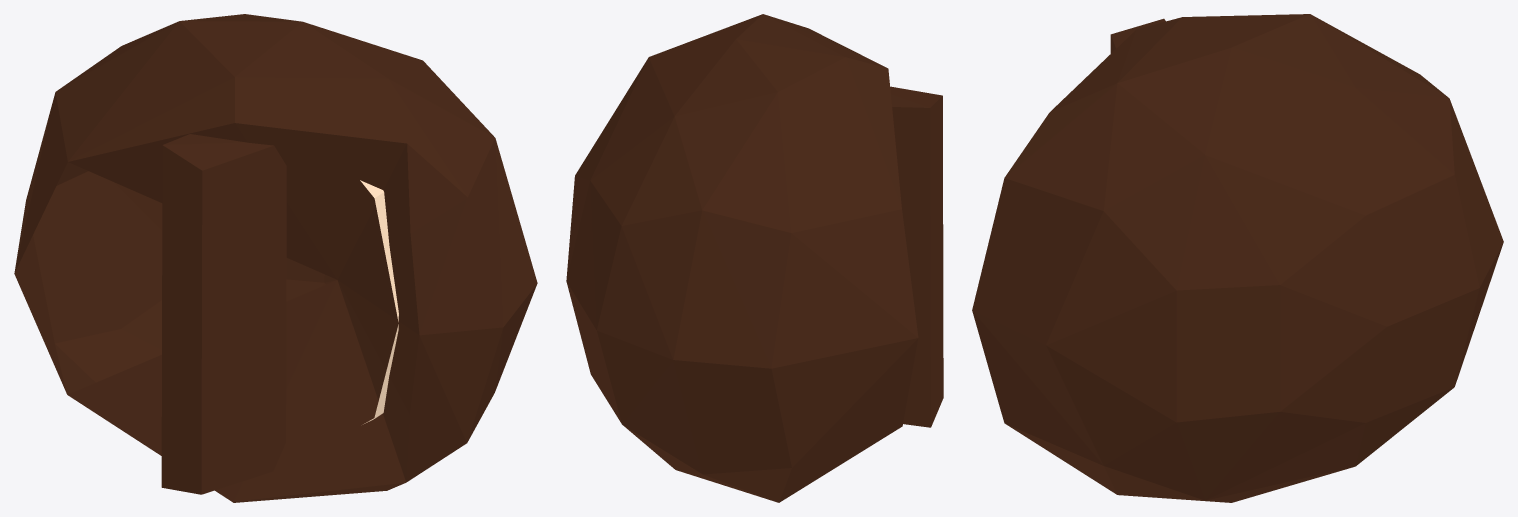
File: hair30.glb
3 renders of one model, left to right at view 1: azimuth 30°, elevation 25°; view 2: azimuth 150°, elevation 25°; view 3: azimuth 270°, elevation 25°, orthographic. The views are drawn at different scales.
Visible parts, largest first — view 1: tomodachi-2026-03-17-09-08-08-837, tomodachi-2026-03-17-09-08-08-837.008; view 2: tomodachi-2026-03-17-09-08-08-837; view 3: tomodachi-2026-03-17-09-08-08-837.
Boxes of the visible parts, <box> form: tomodachi-2026-03-17-09-08-08-837: <box>14,14,537,502</box>; tomodachi-2026-03-17-09-08-08-837.008: <box>360,180,398,424</box>; tomodachi-2026-03-17-09-08-08-837: <box>566,14,943,502</box>; tomodachi-2026-03-17-09-08-08-837: <box>972,14,1503,502</box>.
Bounding box in the file's own units: 1.35 × 1.45 × 1.53.
2 materials, 2 textured.
